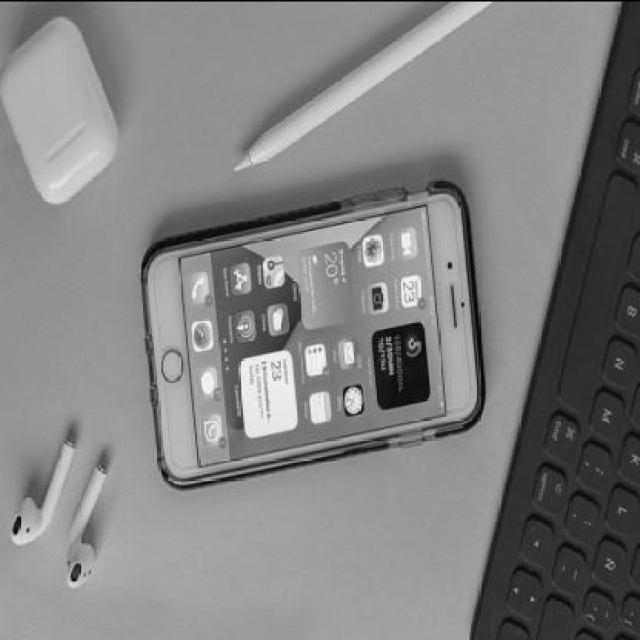fake: (147, 172, 484, 490)
